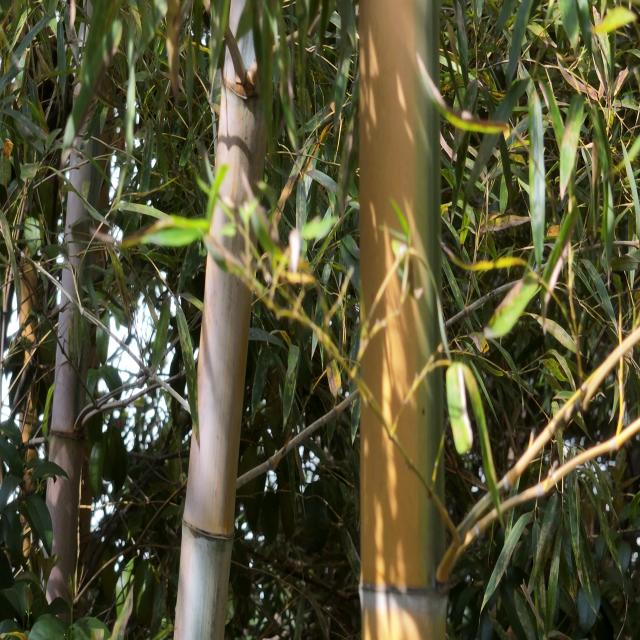Bamboo-shoots: (172, 0, 272, 640)
